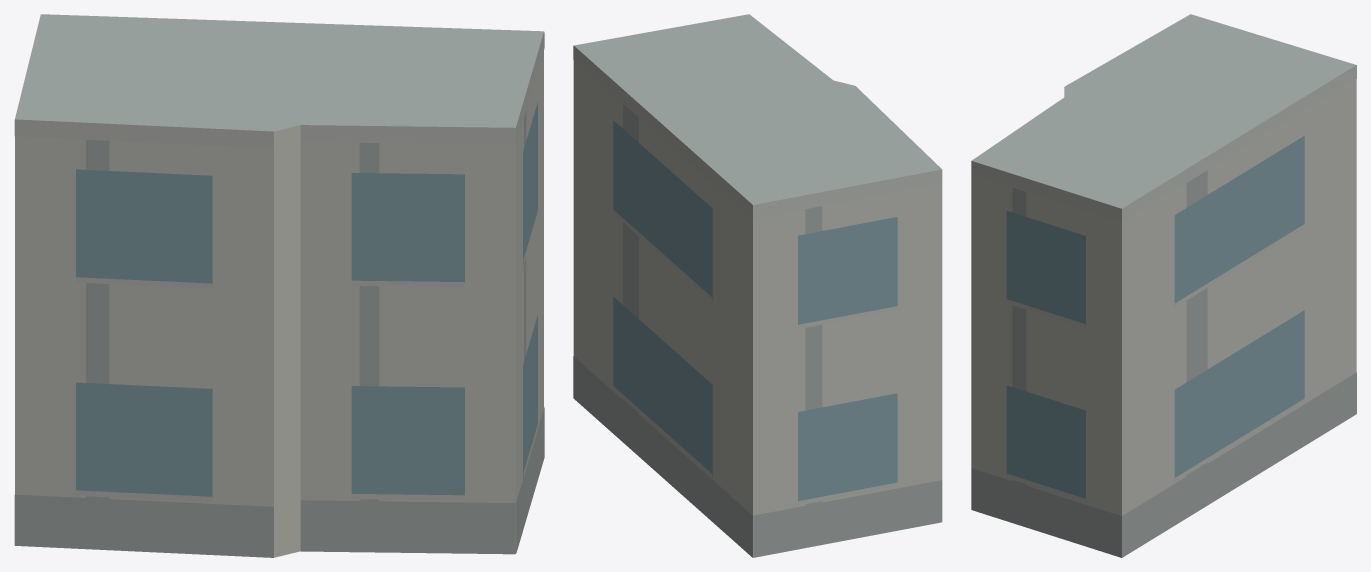
File: residential-89b54467-8b1c-4388-b401-ceb7d2d46826.glb
3 renders of one model, left to right at view 1: azimuth 30°, elevation 25°; view 2: azimuth 150°, elevation 25°; view 3: azimuth 270°, elevation 25°, orthographic. The views are drawn at different scales.
Visible parts, largest first — view 1: residential-89b54467-8b1c-4388-b401-ceb7d2d46826.tmp; view 2: residential-89b54467-8b1c-4388-b401-ceb7d2d46826.tmp; view 3: residential-89b54467-8b1c-4388-b401-ceb7d2d46826.tmp.
Part boxes in pixels (left/top/right/bottom): residential-89b54467-8b1c-4388-b401-ceb7d2d46826.tmp: left=14, top=14, right=544, bottom=557; residential-89b54467-8b1c-4388-b401-ceb7d2d46826.tmp: left=573, top=14, right=942, bottom=557; residential-89b54467-8b1c-4388-b401-ceb7d2d46826.tmp: left=971, top=14, right=1356, bottom=557.
Size of the model in its own units: 7.31 by 6.1 by 6.11.
